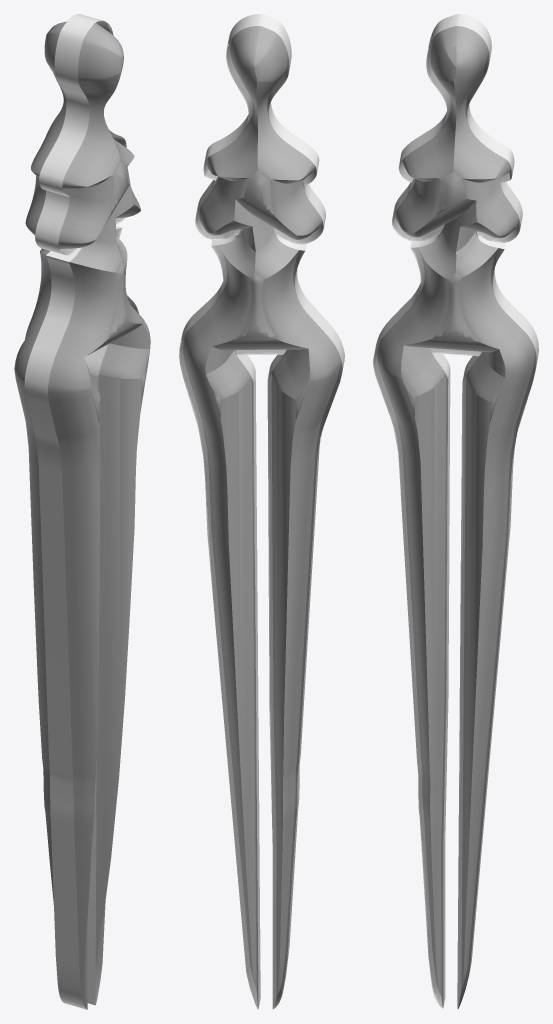
The model's file is boobs.obj.
3 views of the same model, side by side, from view 1: azimuth 30°, elevation 25°; view 2: azimuth 150°, elevation 25°; view 3: azimuth 330°, elevation 25° (orthographic).
Parts seen in each view (by area): view 1: Layer 1; view 2: Layer 1; view 3: Layer 1.
Part boxes in pixels (x1=…): Layer 1: x1=14, y1=14, x2=150, y2=1009; Layer 1: x1=179, y1=14, x2=344, y2=1009; Layer 1: x1=373, y1=14, x2=538, y2=1009.
Size of the model in its own units: 3.28 by 22.19 by 2.62.
